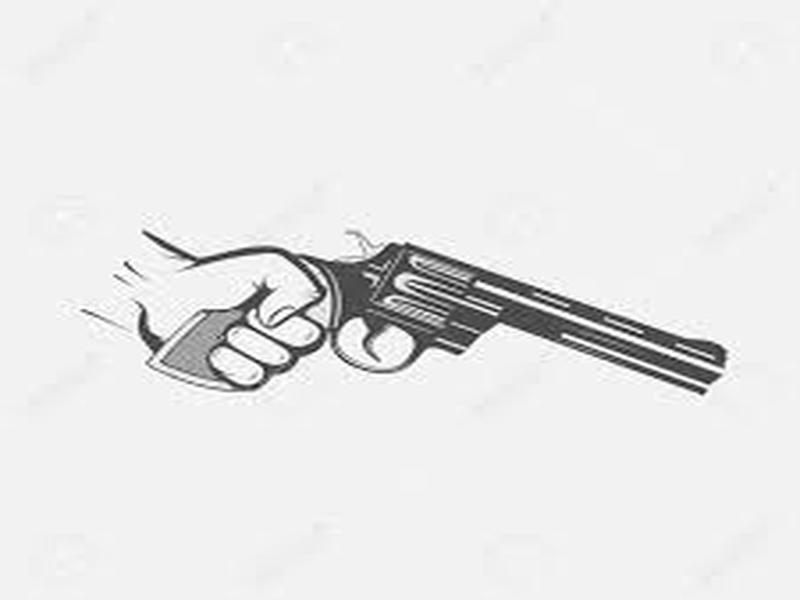gun: (21, 219, 791, 471), (73, 216, 739, 439), (84, 219, 736, 415)
